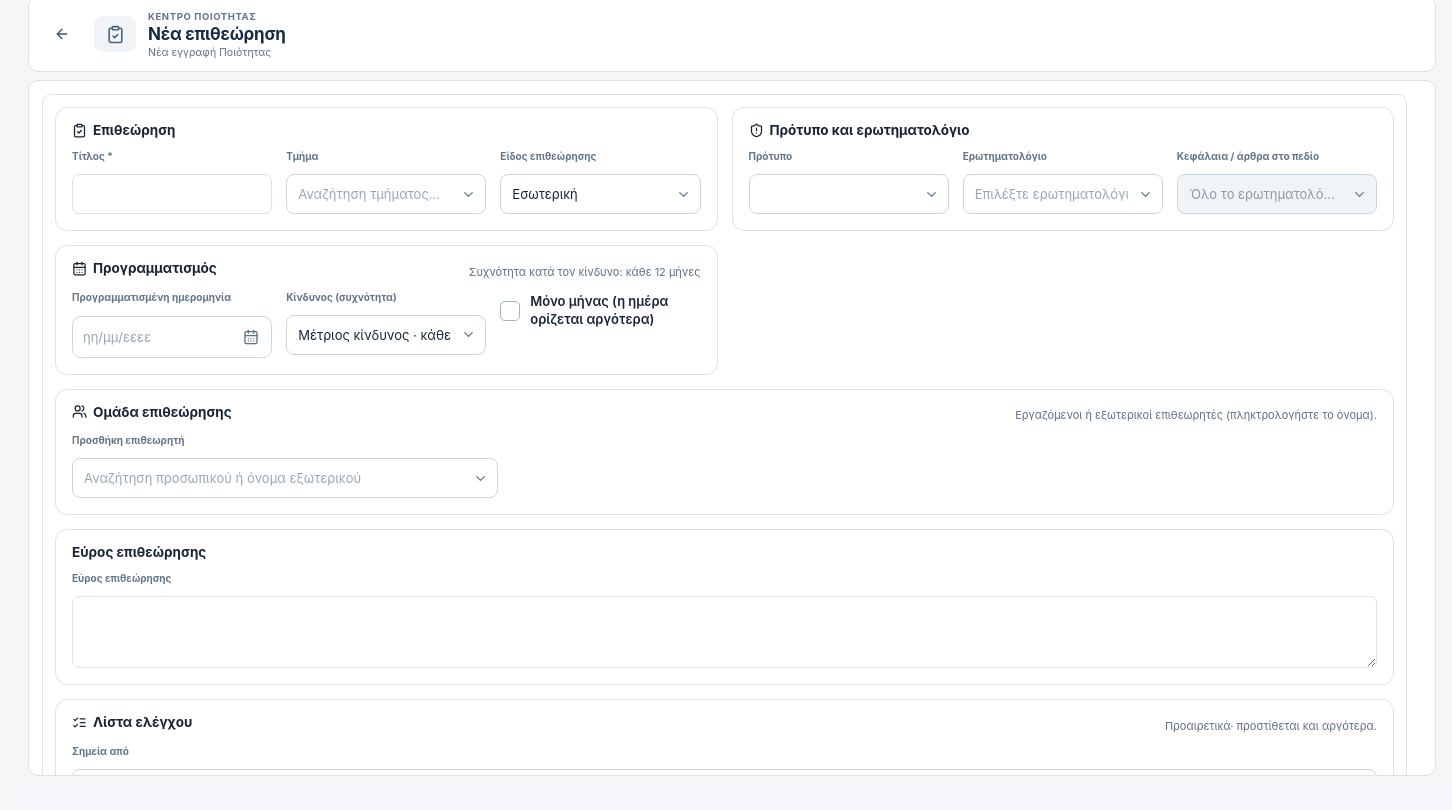
Test case: saving a quality record › returns to the Quality Center after any other record
The width and height of the screenshot is (1452, 810).
Type "Πτώση ασθενούς" into the field labelled "Τίτλος *".
click(172, 194); type("Πτώση ασθενούς")  # box [72,174,272,214]
(page scrolled)
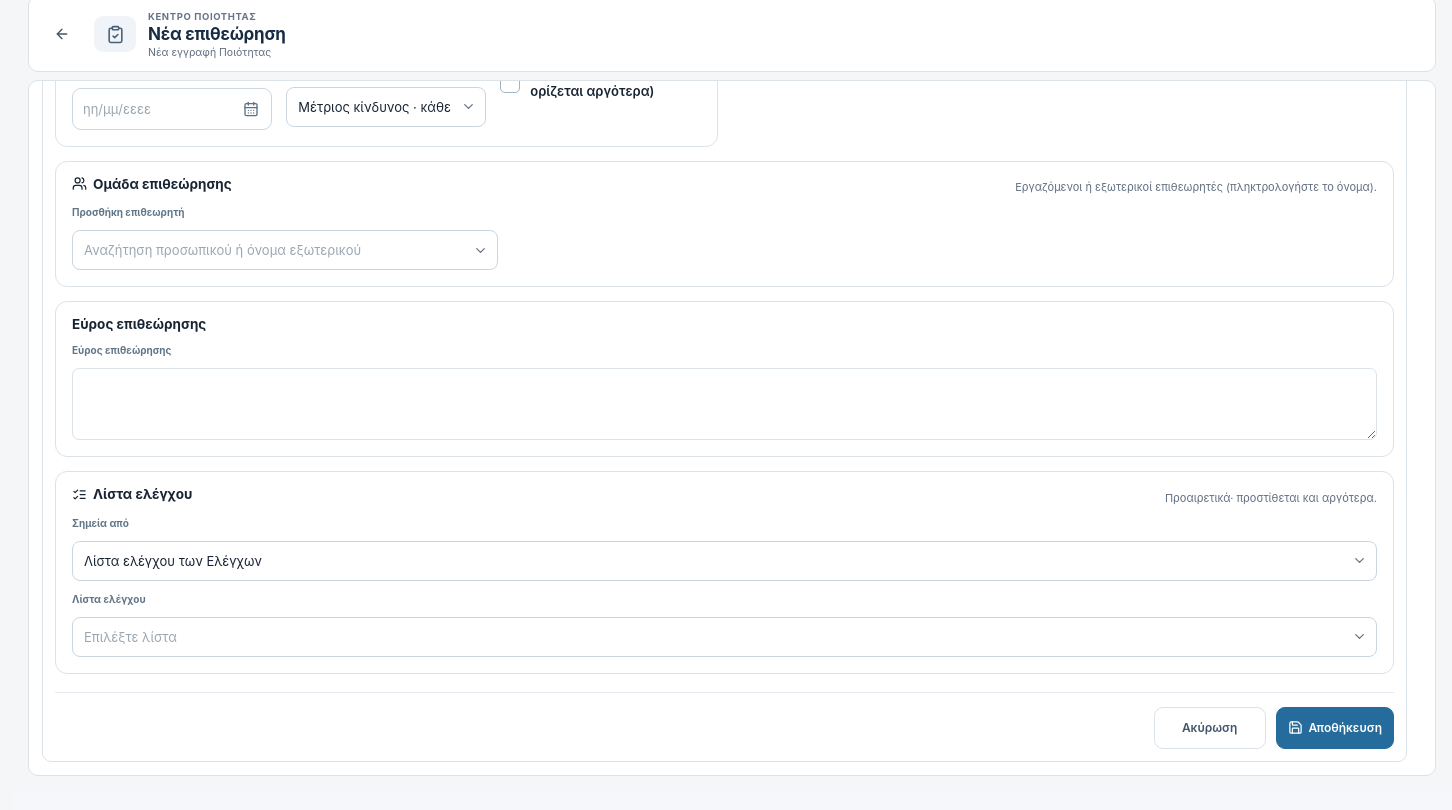
Click the button "Αποθήκευση".
click(1335, 728)  # box [1276,707,1394,749]
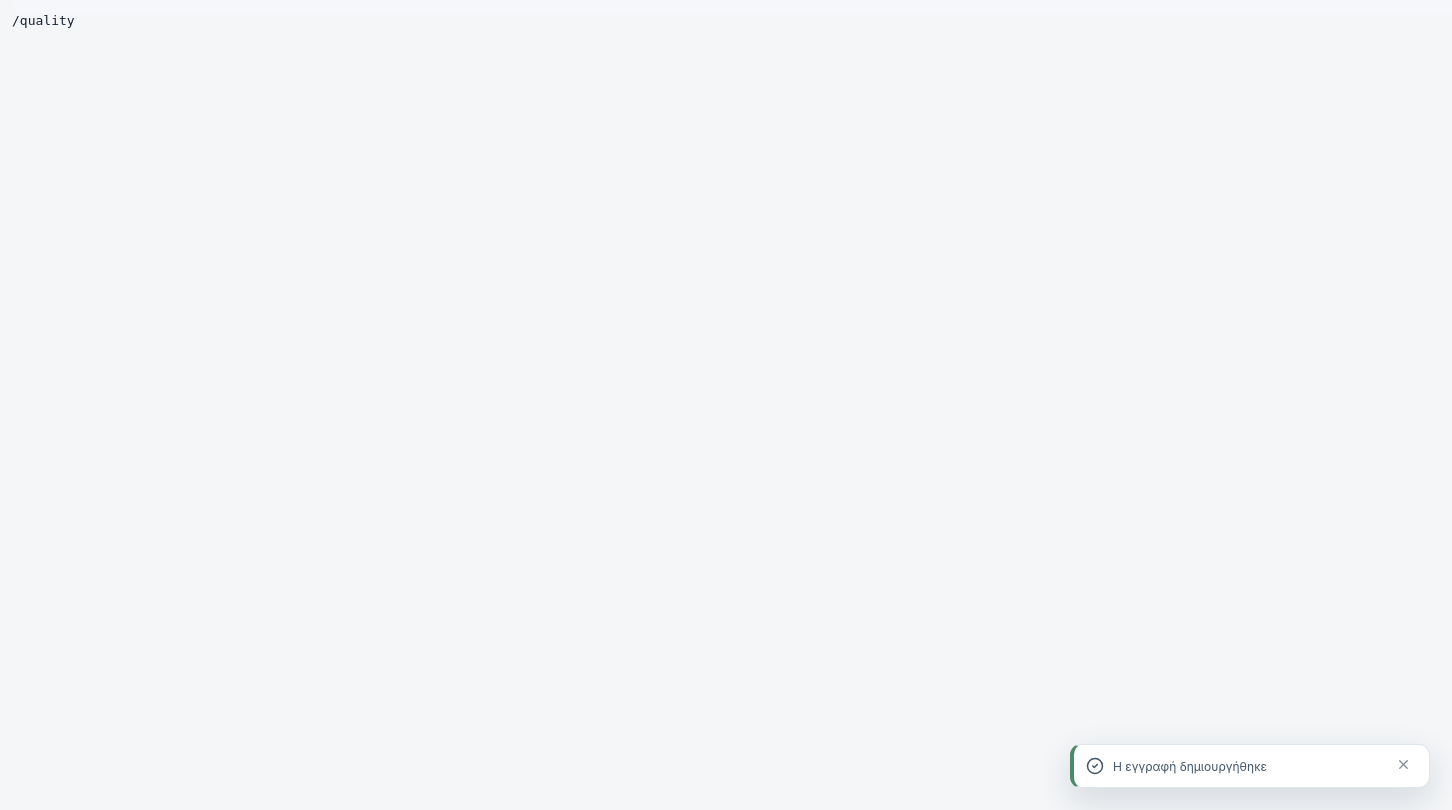
Result: the text with test id "where" reads "/quality" at [12,13,75,28]
